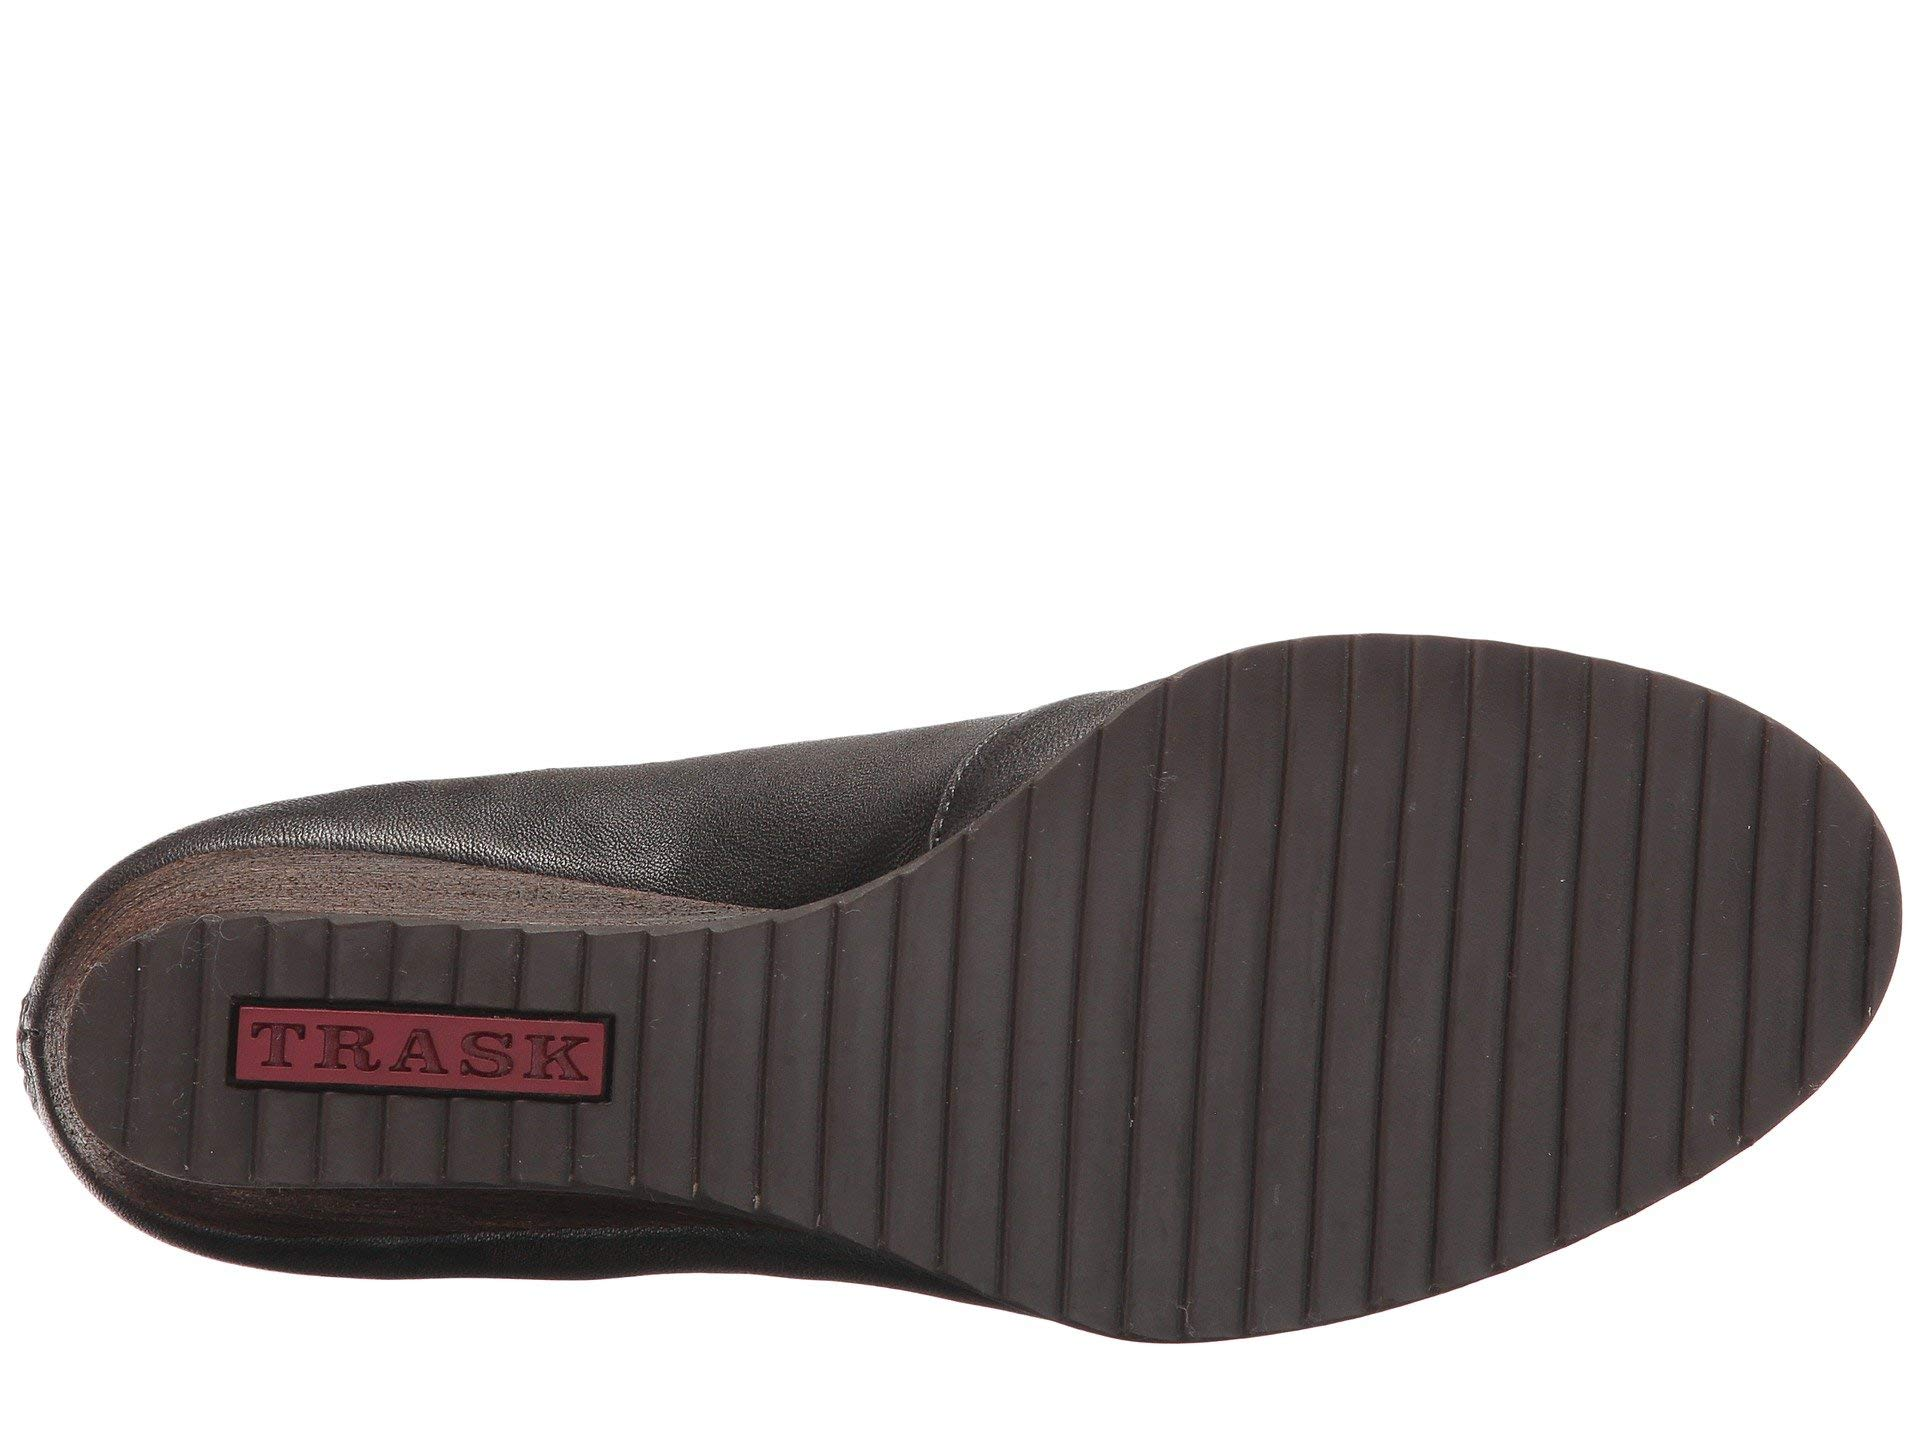exclude: (165, 720, 915, 870)
line: (1164, 685, 1698, 1125), (228, 985, 632, 1113)
quad: (228, 985, 632, 1113)
text: (228, 985, 632, 1113)
